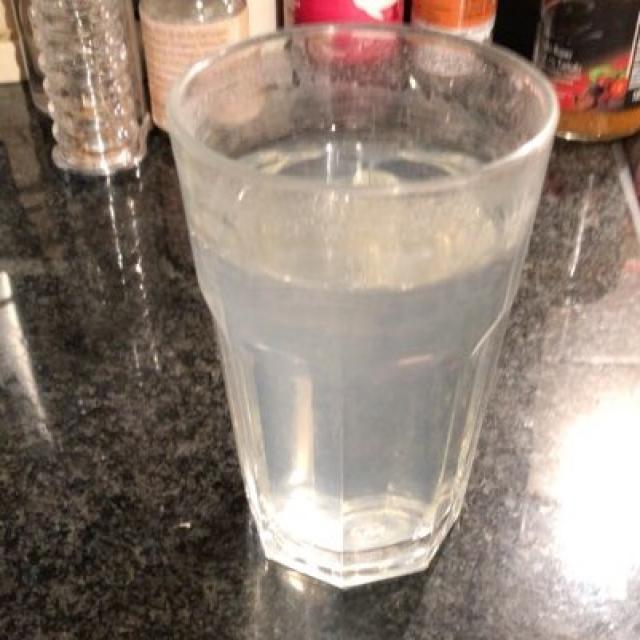drink: (190, 131, 534, 564)
